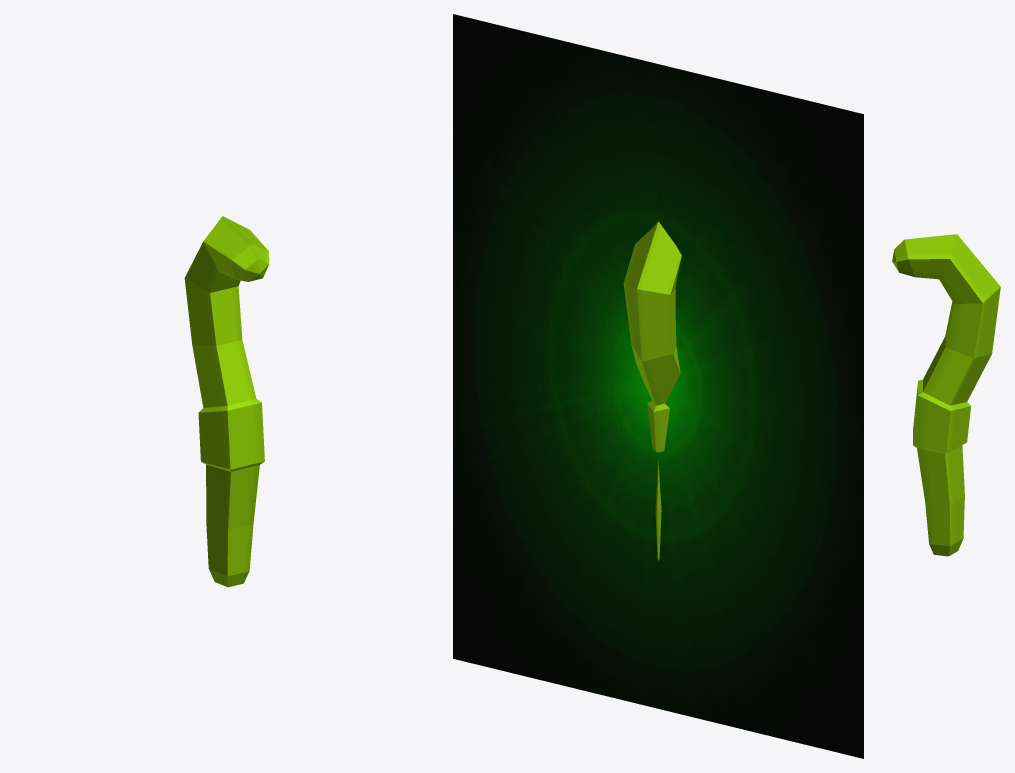
The model's file is item_bait_glowworm.glb.
3 views of the same model, side by side, from view 1: azimuth 30°, elevation 25°; view 2: azimuth 150°, elevation 25°; view 3: azimuth 270°, elevation 25° (orthographic). The views are drawn at different scales.
Parts seen in each view (by area): view 1: worm; view 2: Quad, worm; view 3: worm.
Part boxes in pixels (x1=…): worm: x1=184, y1=216, x2=269, y2=587; Quad: x1=453, y1=14, x2=863, y2=758; worm: x1=623, y1=221, x2=681, y2=560; worm: x1=892, y1=234, x2=1000, y2=556.
Size of the model in its own units: 0.2 by 0.3 by 0.052.
2 materials, 2 textured.
